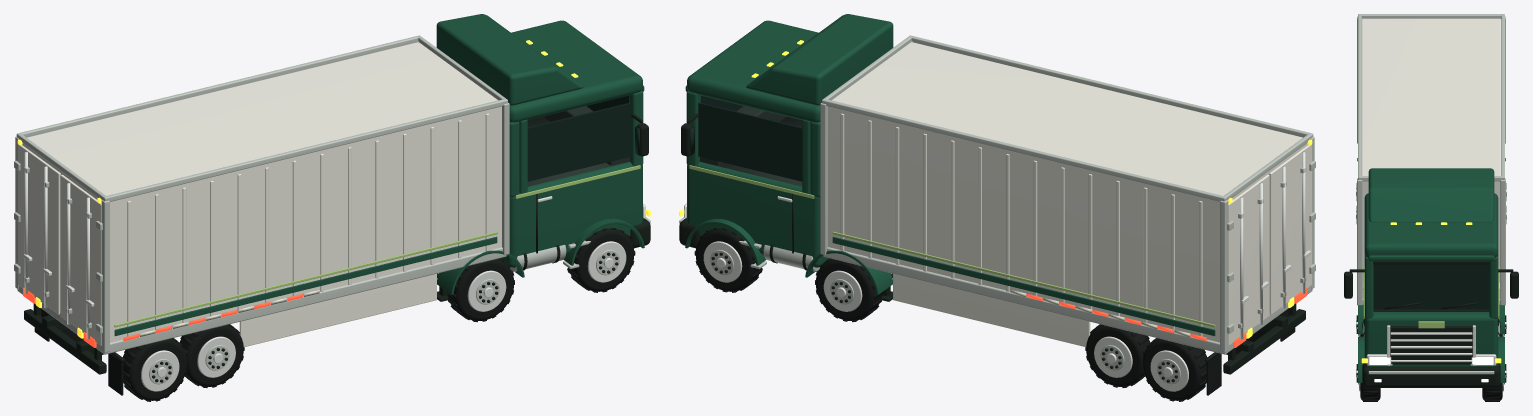
The model's file is camion.glb.
The picture shows the model from 3 angles, left to right: view 1: azimuth 30°, elevation 25°; view 2: azimuth 150°, elevation 25°; view 3: azimuth 270°, elevation 25°; orthographic projection. The views are drawn at different scales.
Parts seen in each view (by area): view 1: Carrocería, Rueda.1, Rueda.5, Rueda.7, Rueda.3; view 2: Carrocería, Cristal conductor, Rueda.0, Rueda.4, Rueda.6, Rueda.2; view 3: Carrocería, Rueda.6, Rueda.7.
Boxes of the visible parts, x1,y1,x2,y2 form: Carrocería: (14, 14, 650, 395); Rueda.1: (122, 338, 186, 401); Rueda.5: (446, 258, 514, 322); Rueda.7: (567, 227, 635, 292); Rueda.3: (179, 324, 244, 387); Carrocería: (679, 14, 1315, 395); Cristal conductor: (698, 102, 802, 181); Rueda.0: (1143, 338, 1207, 401); Rueda.4: (815, 258, 883, 322); Rueda.6: (694, 227, 762, 292); Rueda.2: (1085, 324, 1150, 387); Carrocería: (1344, 14, 1518, 387); Rueda.6: (1482, 364, 1506, 401); Rueda.7: (1356, 364, 1380, 401).
Bounding box in the file's own units: 8.5 × 3.42 × 2.78.
